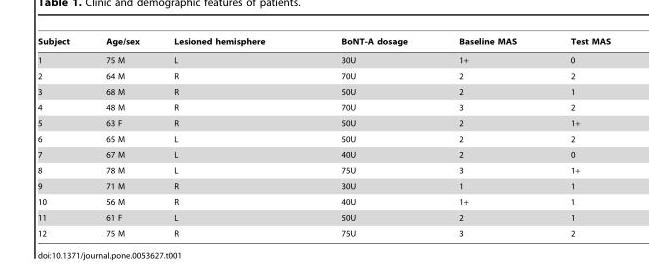table: (36, 36, 610, 237)
table column: (156, 36, 302, 237), (302, 36, 432, 237), (432, 36, 543, 237), (86, 36, 156, 237), (543, 36, 610, 237), (36, 36, 86, 237)
table column header: (36, 36, 610, 49)
table row: (36, 49, 610, 68), (36, 114, 610, 131), (36, 161, 610, 178), (36, 192, 610, 209), (36, 83, 610, 99), (36, 209, 610, 225), (36, 68, 610, 83), (36, 99, 610, 114), (36, 131, 610, 146), (36, 146, 610, 161), (36, 178, 610, 192), (36, 36, 610, 49), (36, 225, 610, 237)
